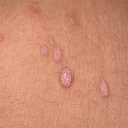Wart: (58, 67, 78, 91), (99, 79, 114, 100)
